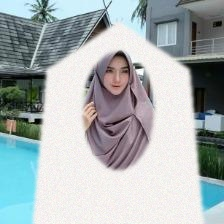Mukena: (30, 28, 206, 224)
